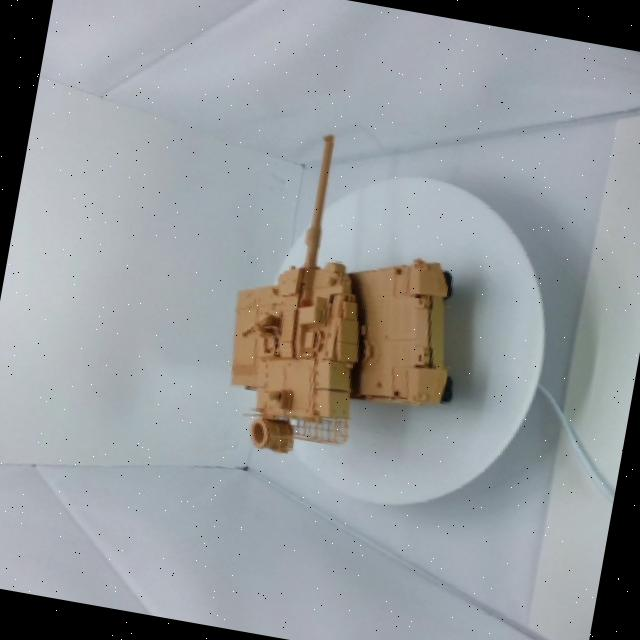korea tank: (165, 92, 522, 516)
